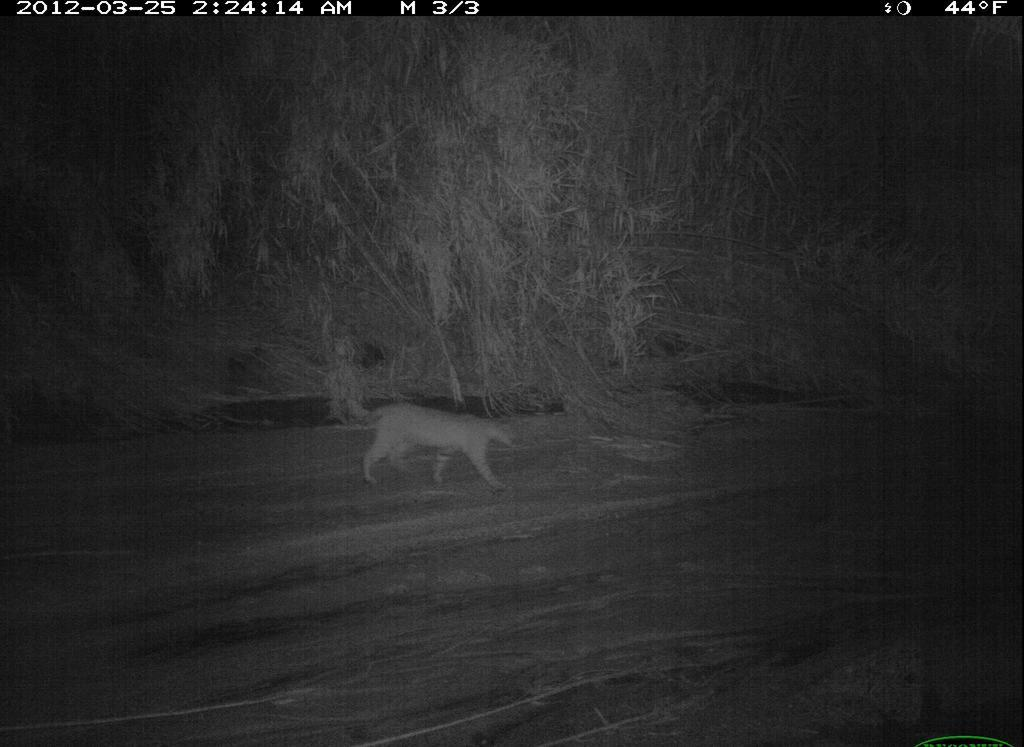bobcat: (341, 396, 521, 493)
